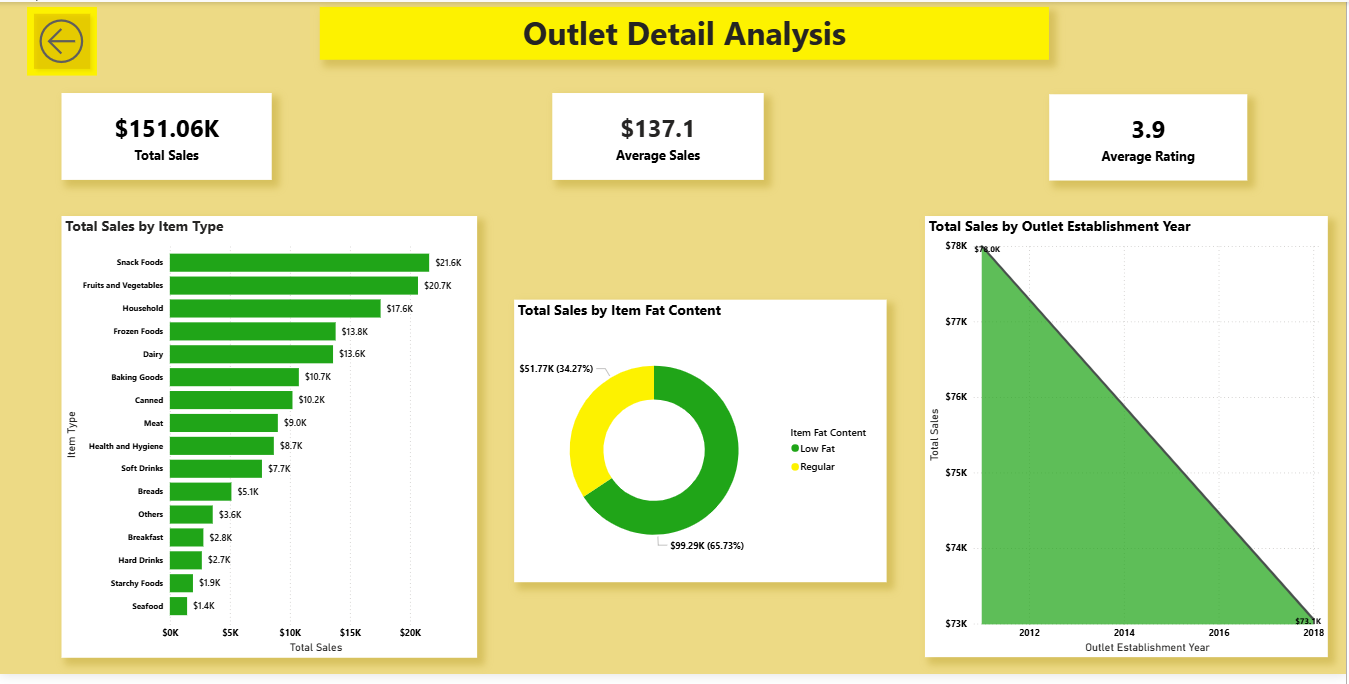

What the dashboard file says about the page in this screenshot:
{"tool":"powerbi","page":{"name":"Outlet Detail","canvas":[1800,900],"ordinal":2},"visuals":[{"type":"textbox","box":[427.9,6.6,975.9,70.8],"z":0},{"type":"actionButton","box":[36.2,6.6,93.8,92.2],"z":1000},{"type":"card","fields":{"Values":["Fact Table.Total Sales"]},"box":[81.9,122.1,281.6,116.4],"z":2000},{"type":"card","fields":{"Values":["Fact Table.Average Rating"]},"box":[1403.8,123.6,265.1,115.5],"z":3000},{"type":"card","fields":{"Values":["Fact Table.Average Sales"]},"box":[738.6,122.1,283.1,116.4],"z":4000},{"type":"clusteredBarChart","fields":{"Category":["Fact Table.Item Type"],"Y":["Fact Table.Total Sales"]},"box":[82.3,286.4,556.3,590.8],"z":5000},{"type":"donutChart","fields":{"Category":["Fact Table.Item Fat Content"],"Y":["Fact Table.Total Sales"]},"box":[688.3,398,498.6,377.9],"z":6000},{"type":"areaChart","fields":{"Category":["Fact Table.Outlet Establishment Year"],"Y":["Fact Table.Total Sales"]},"box":[1237.2,286,538.9,590.6],"z":7000}]}

Visuals, with their boxes in screenshot pixels (x1, y1, x2, y2), scaled from the page's 1800x900 canvas onto the 1349x684 screenshot:
textbox: pyautogui.locateOnScreen(321, 5, 1052, 59)
actionButton: pyautogui.locateOnScreen(27, 5, 97, 75)
card - Fact Table.Total Sales: pyautogui.locateOnScreen(61, 93, 272, 181)
card - Fact Table.Average Rating: pyautogui.locateOnScreen(1052, 94, 1251, 182)
card - Fact Table.Average Sales: pyautogui.locateOnScreen(554, 93, 766, 181)
clusteredBarChart - Fact Table.Item Type x Fact Table.Total Sales: pyautogui.locateOnScreen(62, 218, 479, 667)
donutChart - Fact Table.Item Fat Content x Fact Table.Total Sales: pyautogui.locateOnScreen(516, 302, 890, 590)
areaChart - Fact Table.Outlet Establishment Year x Fact Table.Total Sales: pyautogui.locateOnScreen(927, 217, 1331, 666)
